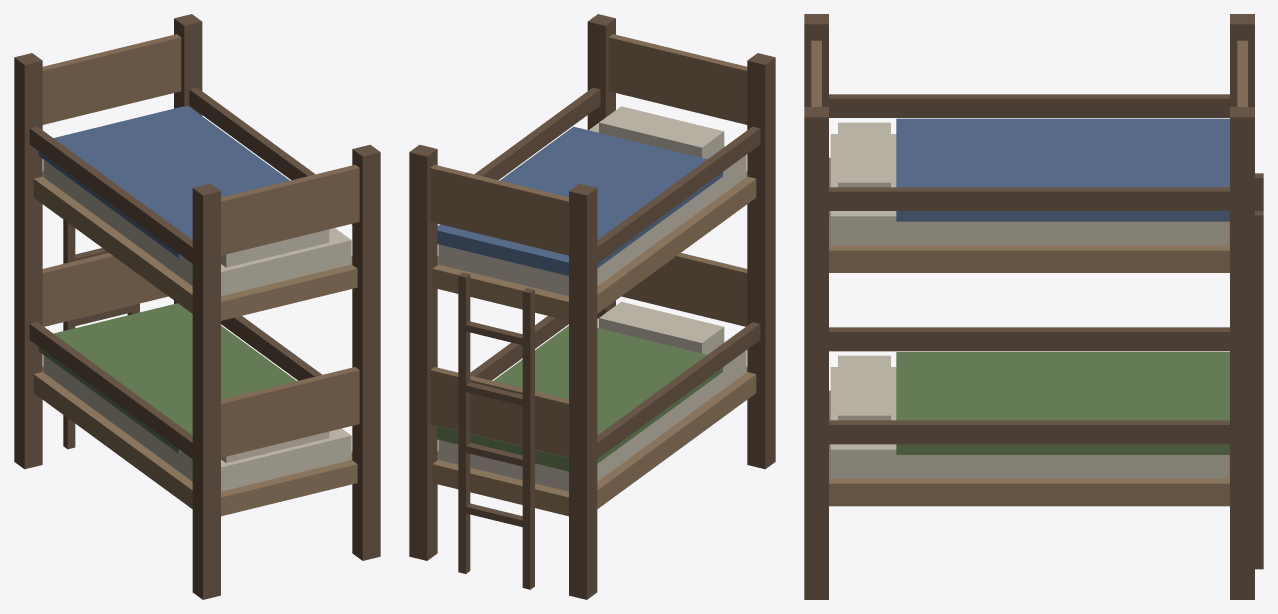
Rendered from bunk.glb.
The picture shows the model from 3 angles, left to right: view 1: azimuth 30°, elevation 25°; view 2: azimuth 150°, elevation 25°; view 3: azimuth 270°, elevation 25°; orthographic projection. The views are drawn at different scales.
Visible parts, largest first — view 1: bunk; view 2: bunk; view 3: bunk.
Part boxes in pixels (x1,y1,x2,y2): bunk: (14, 14, 380, 599); bunk: (409, 14, 775, 599); bunk: (804, 14, 1263, 599).
Bounding box in the file's own units: 1.38 × 3 × 2.59.
